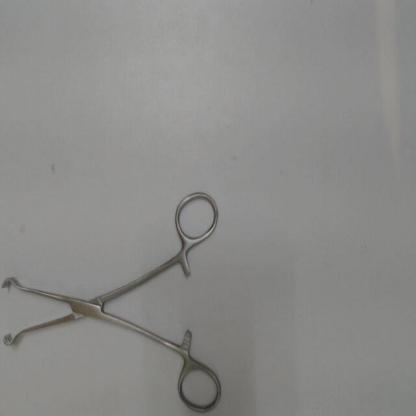Babcock Tissue Forceps: (0, 180, 228, 414)
